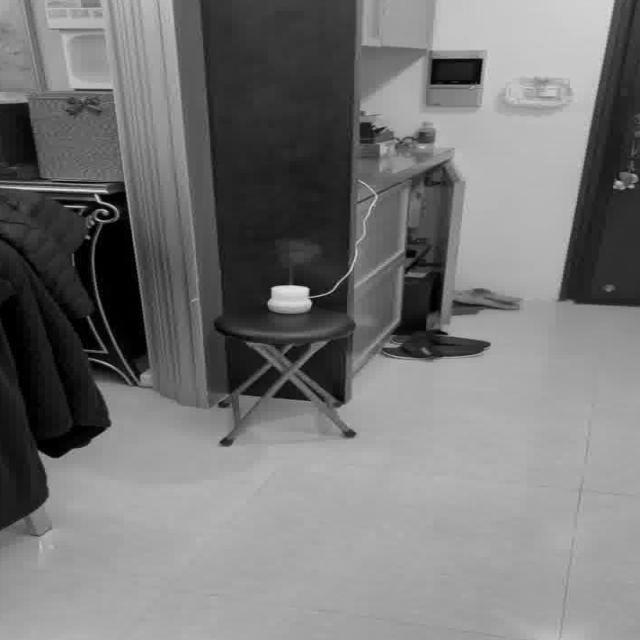fire: (268, 235, 326, 278)
